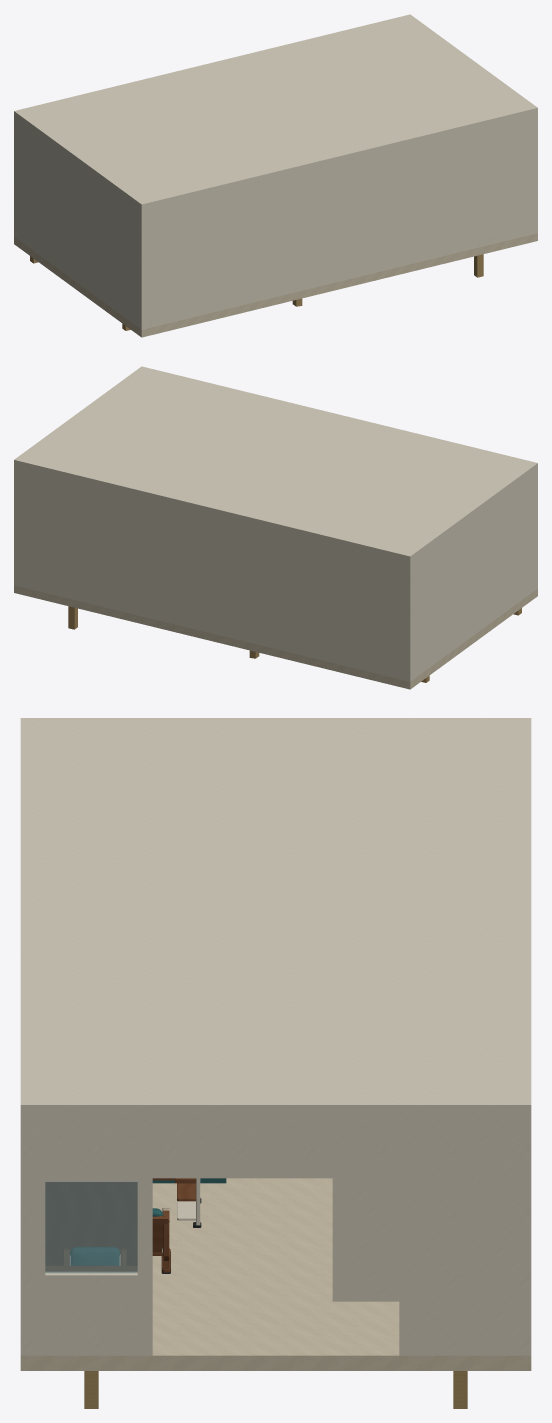
The model's file is StarAtlasSpecialty_527.glb.
The picture shows the model from 3 angles, top to bottom: view 1: azimuth 30°, elevation 25°; view 2: azimuth 150°, elevation 25°; view 3: azimuth 270°, elevation 25°; orthographic projection. The views are drawn at different scales.
Visible parts, largest first — view 1: SA527_Ceiling, SA527_NorthSide, SA527_OpaqueRearBoundary, SA527_RoomFloor; view 2: SA527_Ceiling, SA527_SouthSide, SA527_OpaqueRearBoundary, SA527_RoomFloor; view 3: SA527_Ceiling, SA527_RoomFloor, SA527_EntryShoulderSouth, SA527_EntryHeader, SA527_StreetWindowLower, SA527_ScreenedStreetGlass, SA527_WashEntrySide, SA527_StreetWindowUpper, SA527_EntryPrivacyDogleg, SA527_NorthSide, SA527_SouthSide, SA527_StreetWindowOuterPier (+2 smaller).
Boxes of the visible parts, x1=… form: SA527_Ceiling: x1=14, y1=14, x2=537, y2=209; SA527_NorthSide: x1=139, y1=113, x2=537, y2=329; SA527_OpaqueRearBoundary: x1=16, y1=118, x2=139, y2=327; SA527_RoomFloor: x1=14, y1=233, x2=537, y2=337; SA527_Ceiling: x1=14, y1=366, x2=537, y2=561; SA527_SouthSide: x1=14, y1=465, x2=412, y2=681; SA527_OpaqueRearBoundary: x1=412, y1=470, x2=535, y2=679; SA527_RoomFloor: x1=14, y1=585, x2=537, y2=689; SA527_Ceiling: x1=20, y1=718, x2=531, y2=1115; SA527_RoomFloor: x1=20, y1=1178, x2=531, y2=1370; SA527_EntryShoulderSouth: x1=399, y1=1115, x2=522, y2=1355; SA527_EntryHeader: x1=148, y1=1115, x2=403, y2=1178; SA527_StreetWindowLower: x1=29, y1=1272, x2=152, y2=1355; SA527_ScreenedStreetGlass: x1=45, y1=1182, x2=137, y2=1272; SA527_WashEntrySide: x1=332, y1=1178, x2=399, y2=1301; SA527_StreetWindowUpper: x1=29, y1=1115, x2=152, y2=1181; SA527_EntryPrivacyDogleg: x1=45, y1=1182, x2=137, y2=1265; SA527_NorthSide: x1=20, y1=1115, x2=28, y2=1355; SA527_SouthSide: x1=523, y1=1115, x2=531, y2=1355; SA527_StreetWindowOuterPier: x1=29, y1=1182, x2=45, y2=1275.
Size of the model in its own units: 12.9 by 5.31 by 7.2.
Materials: 79 (49 with a texture image).
